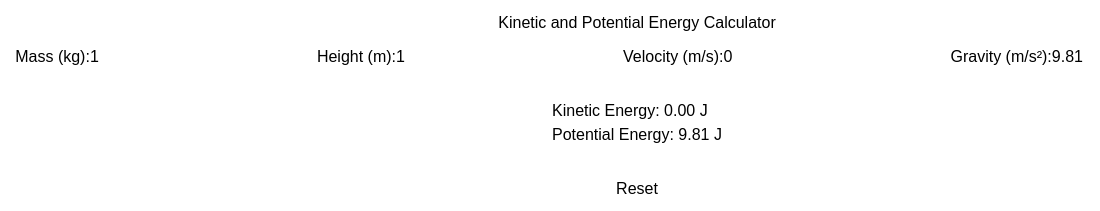
Test: Kinetic and Potential Energy Calculator › updates height and calculates energy correctly
Replace the text in the number field labelled "Height (m):" with "10" at (500, 57), box [396,45,603,69]
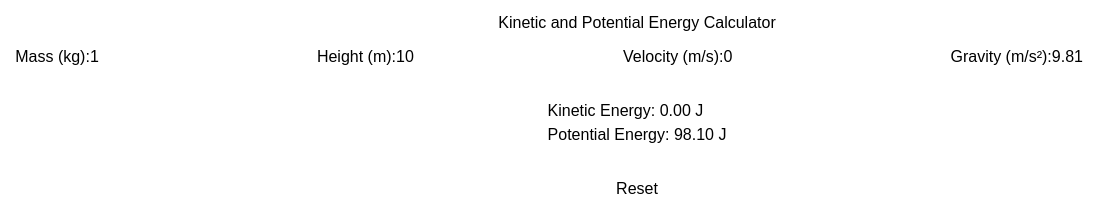
Expected: the text "Kinetic Energy: 0.00 J" is shown, [548,99,726,123]
Expected: the text "Potential Energy: 98.10 J" is shown, [548,123,726,147]
